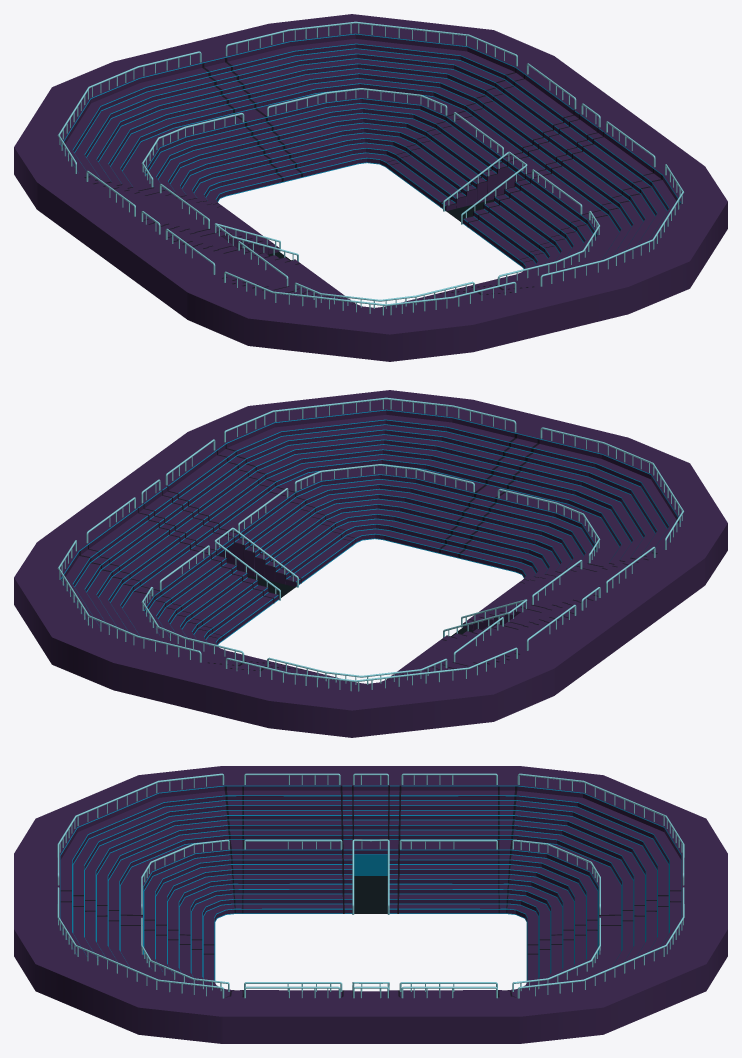
Rendered from SM_Stadium.fbx.
3 renders of one model, top to bottom at view 1: azimuth 30°, elevation 25°; view 2: azimuth 150°, elevation 25°; view 3: azimuth 270°, elevation 25°, orthographic.
Visible parts, largest first — view 1: SM_Stadium; view 2: SM_Stadium; view 3: SM_Stadium.
Boxes of the visible parts, x1,y1,x2,y2 form: SM_Stadium: (14, 14, 727, 361); SM_Stadium: (14, 390, 727, 737); SM_Stadium: (14, 766, 727, 1043).
Bounding box in the file's own units: 12502 × 1724 × 15049.
